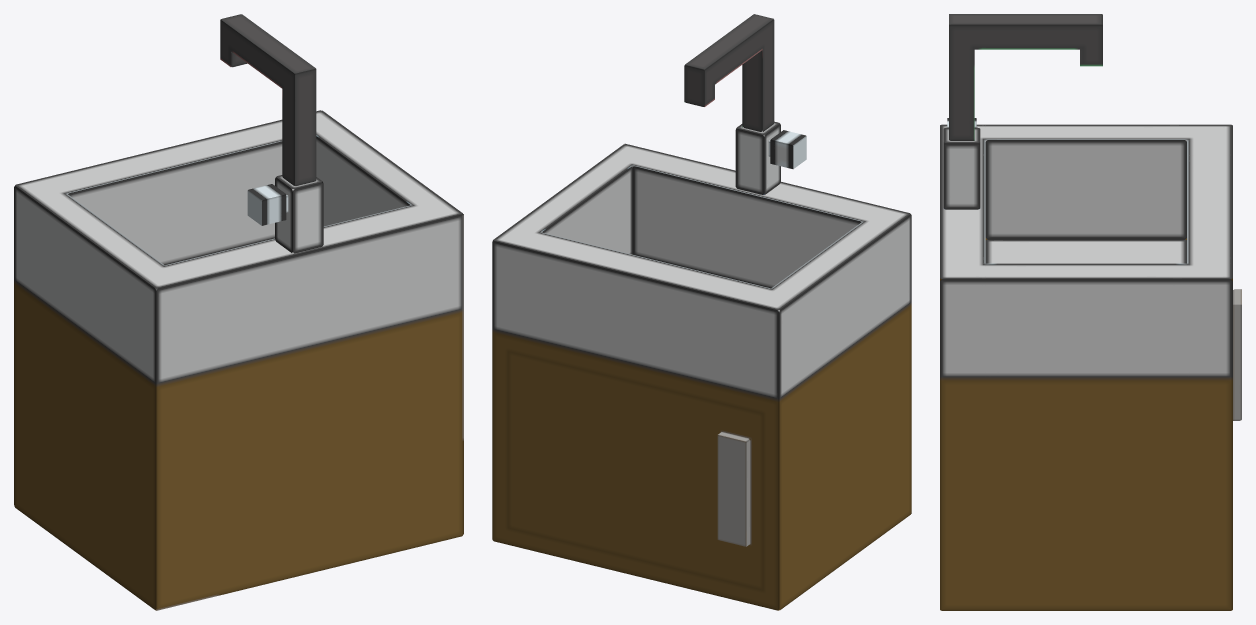
File: kitchen_sink.fbx
3 views of the same model, side by side, from view 1: azimuth 30°, elevation 25°; view 2: azimuth 150°, elevation 25°; view 3: azimuth 270°, elevation 25° (orthographic). The views are drawn at different scales.
Visible parts, largest first — view 1: cube, cube_1, cube_3, cube_2; view 2: cube, cube_1, cube_3, cube_2; view 3: cube, cube_1, cube_3.
Boxes of the visible parts, left/top/right/bottom form: cube: left=14, top=110, right=463, bottom=610; cube_1: left=220, top=14, right=316, bottom=185; cube_3: left=275, top=175, right=323, bottom=253; cube_2: left=247, top=184, right=288, bottom=225; cube: left=492, top=143, right=911, bottom=610; cube_1: left=684, top=14, right=774, bottom=131; cube_3: left=735, top=121, right=780, bottom=194; cube_2: left=768, top=130, right=806, bottom=169; cube: left=940, top=124, right=1241, bottom=610; cube_1: left=949, top=14, right=1102, bottom=140; cube_3: left=943, top=127, right=980, bottom=209.
Bounding box in the file's own units: 125 × 194 × 103.
Materials: 1 (1 with a texture image).
